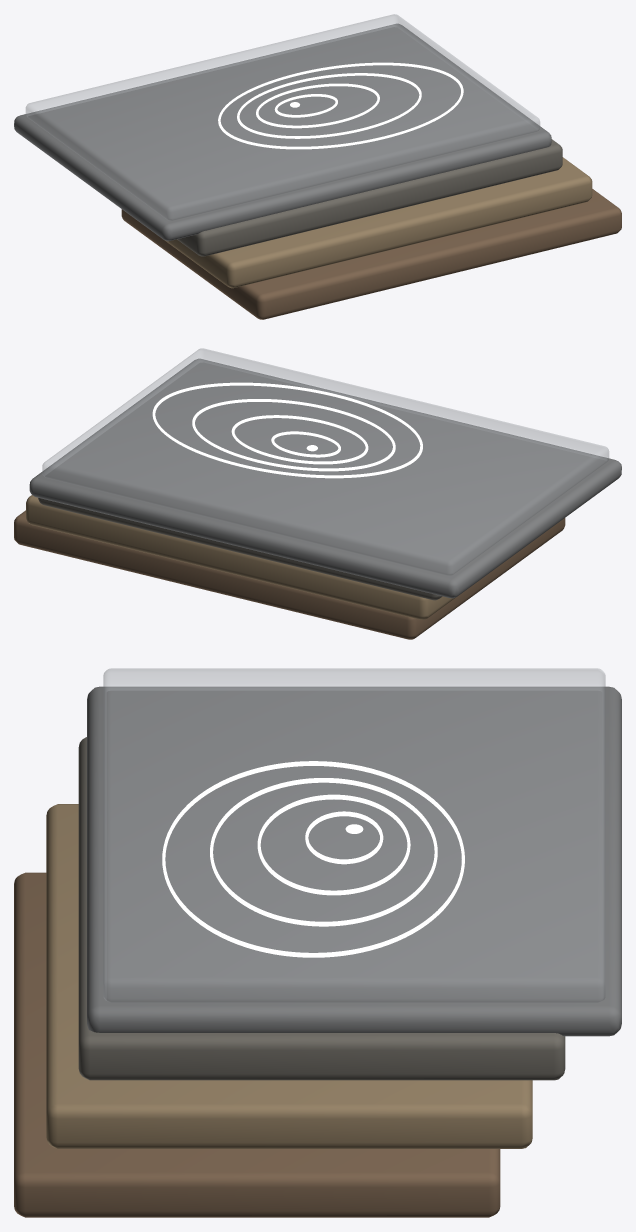
File: oldmap.glb
3 renders of one model, top to bottom at view 1: azimuth 30°, elevation 25°; view 2: azimuth 150°, elevation 25°; view 3: azimuth 270°, elevation 25°, orthographic. The views are drawn at different scales.
Size of the model in its own units: 1.08 by 0.2724 by 0.75.
